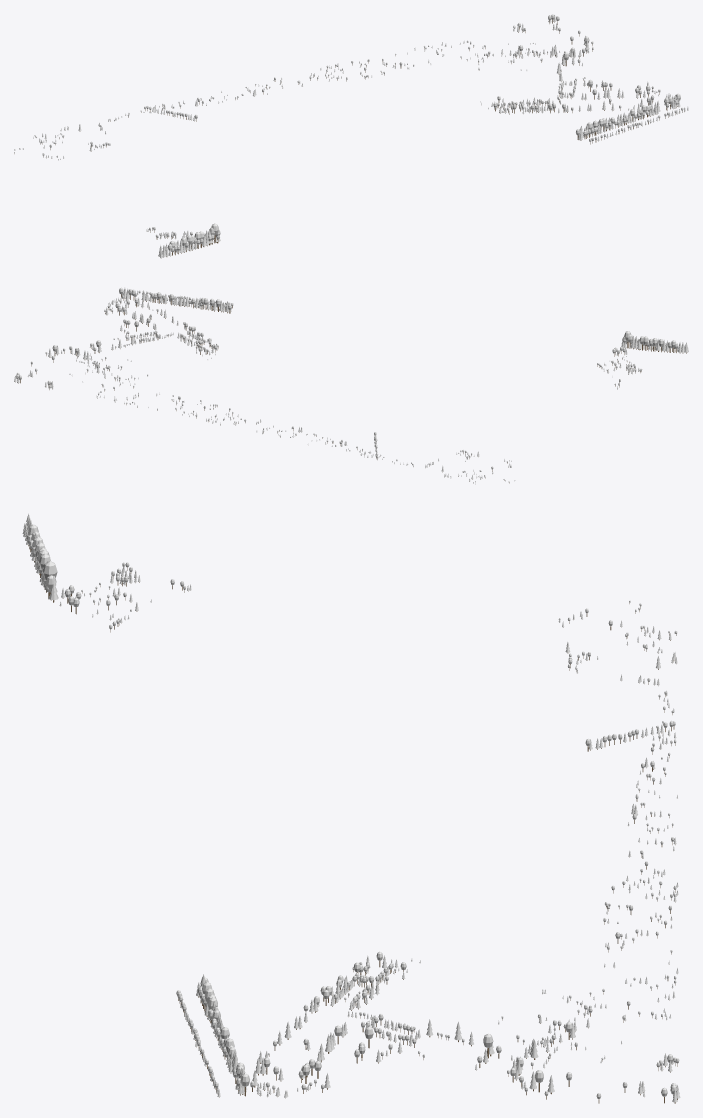
The model's file is stromy.glb.
3 renders of one model, top to bottom at view 1: azimuth 30°, elevation 25°; view 2: azimuth 150°, elevation 25°; view 3: azimuth 270°, elevation 25°, orthographic. The views are drawn at different scales.
Visible parts, largest first — view 1: Stromy_Listnate_05_06, Stromy_Ihlicnate_05_06; view 2: Stromy_Listnate_05_06, Stromy_Ihlicnate_05_06; view 3: Stromy_Listnate_05_06, Stromy_Ihlicnate_05_06.
Boxes of the visible parts, <box> form: Stromy_Listnate_05_06: <box>14,14,683,255</box>; Stromy_Ihlicnate_05_06: <box>33,15,688,258</box>; Stromy_Listnate_05_06: <box>16,287,678,483</box>; Stromy_Ihlicnate_05_06: <box>14,288,688,484</box>; Stromy_Listnate_05_06: <box>26,524,679,1103</box>; Stromy_Ihlicnate_05_06: <box>22,514,680,1103</box>.
Bounding box in the file's own units: 1000 × 90.14 × 553.
